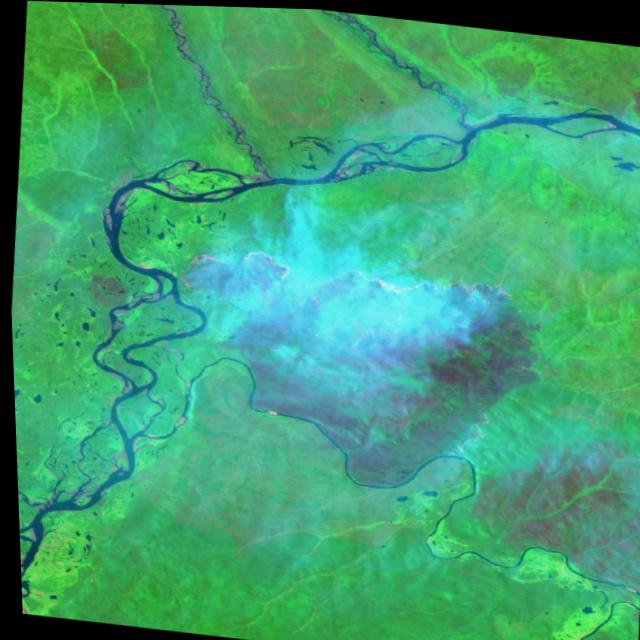fire: (162, 221, 523, 358)
